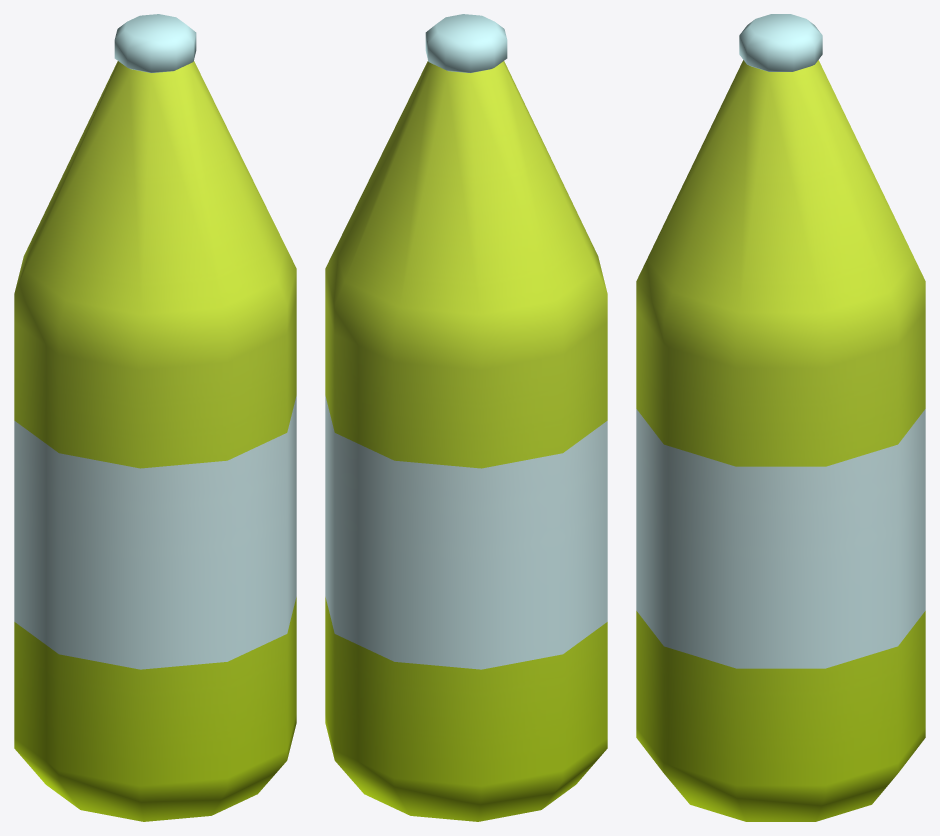
Rendered from cleaning_bottle_yellow.fbx.
3 renders of one model, left to right at view 1: azimuth 30°, elevation 25°; view 2: azimuth 150°, elevation 25°; view 3: azimuth 270°, elevation 25°, orthographic.
Parts seen in each view (by area): view 1: cleaning_bottle_yellow; view 2: cleaning_bottle_yellow; view 3: cleaning_bottle_yellow.
Part boxes in pixels (x1=…): cleaning_bottle_yellow: x1=14, y1=14, x2=296, y2=821; cleaning_bottle_yellow: x1=325, y1=14, x2=607, y2=821; cleaning_bottle_yellow: x1=636, y1=14, x2=925, y2=821.
Bounding box in the file's own units: 113 × 340 × 119.
